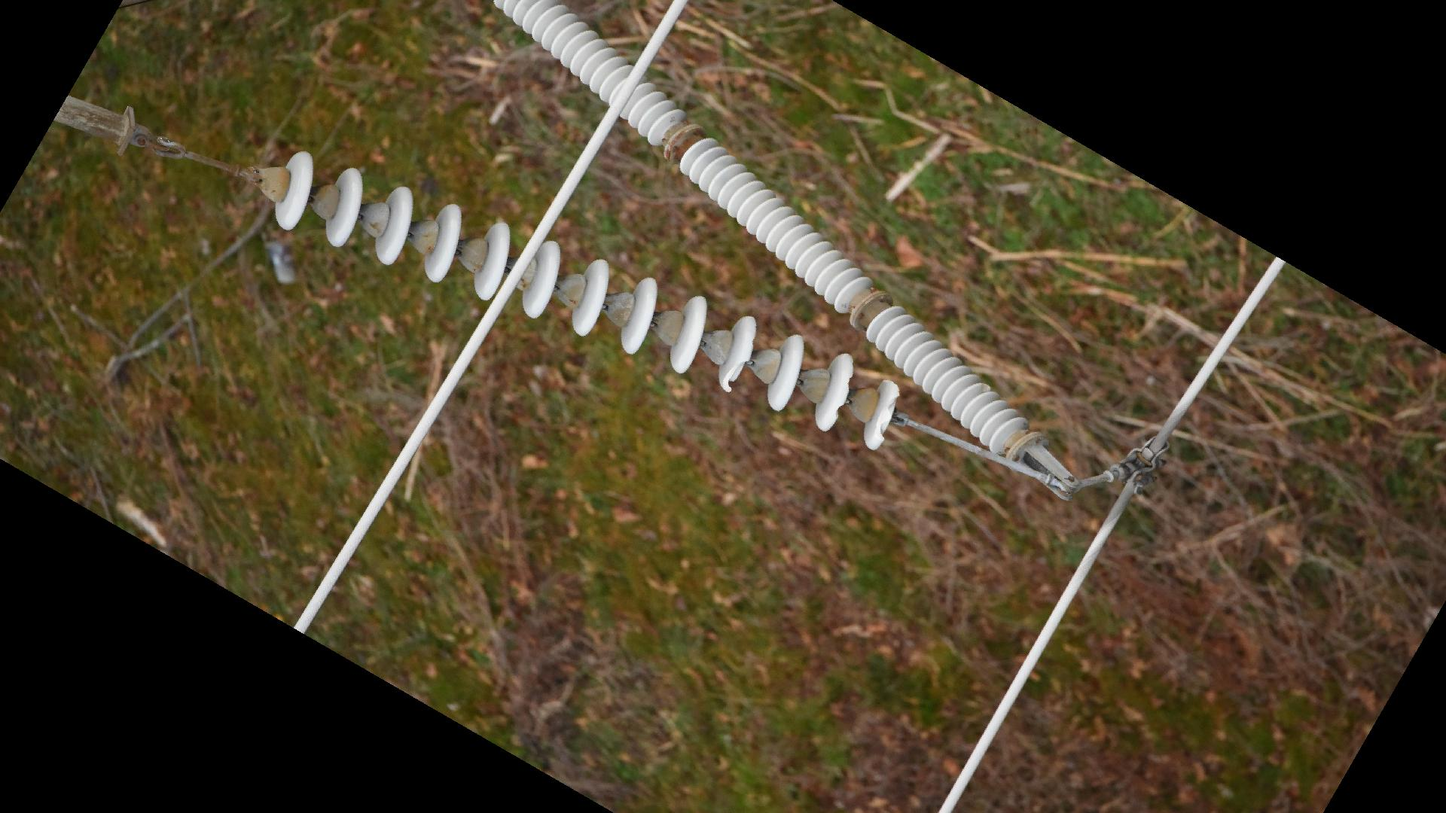insulator: (266, 145, 908, 462), (670, 135, 878, 317), (485, 1, 691, 150), (862, 300, 1036, 461)
insulator_breakage: (868, 375, 903, 448), (827, 355, 859, 425), (717, 354, 751, 397)
